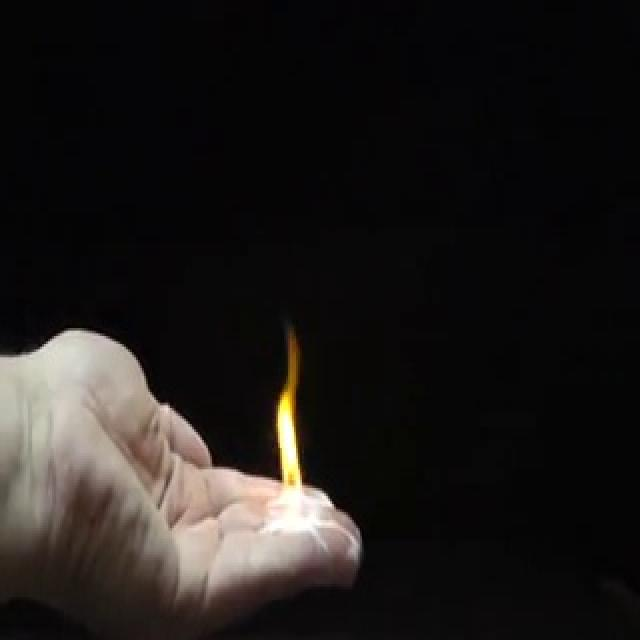fire: (267, 312, 314, 528)
